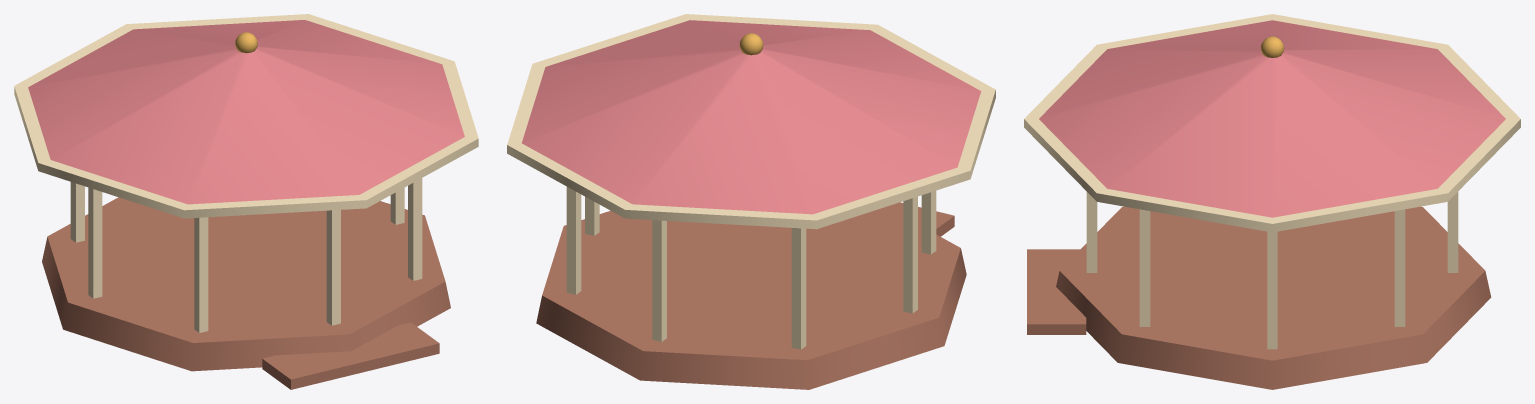
The model's file is prop-bandstand-bandstand.glb.
3 views of the same model, side by side, from view 1: azimuth 30°, elevation 25°; view 2: azimuth 150°, elevation 25°; view 3: azimuth 270°, elevation 25° (orthographic). The views are drawn at different scales.
Visible parts, largest first — view 1: bandstand; view 2: bandstand; view 3: bandstand.
Boxes of the visible parts, <box> form: bandstand: <box>14,14,478,389</box>; bandstand: <box>507,14,995,389</box>; bandstand: <box>1024,14,1520,389</box>.
Bounding box in the file's own units: 8.4 × 4.85 × 8.4.
